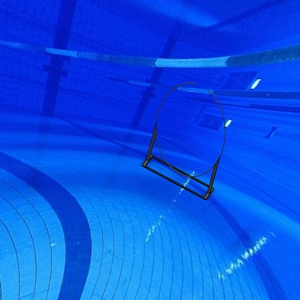circle: (141, 81, 228, 203)
